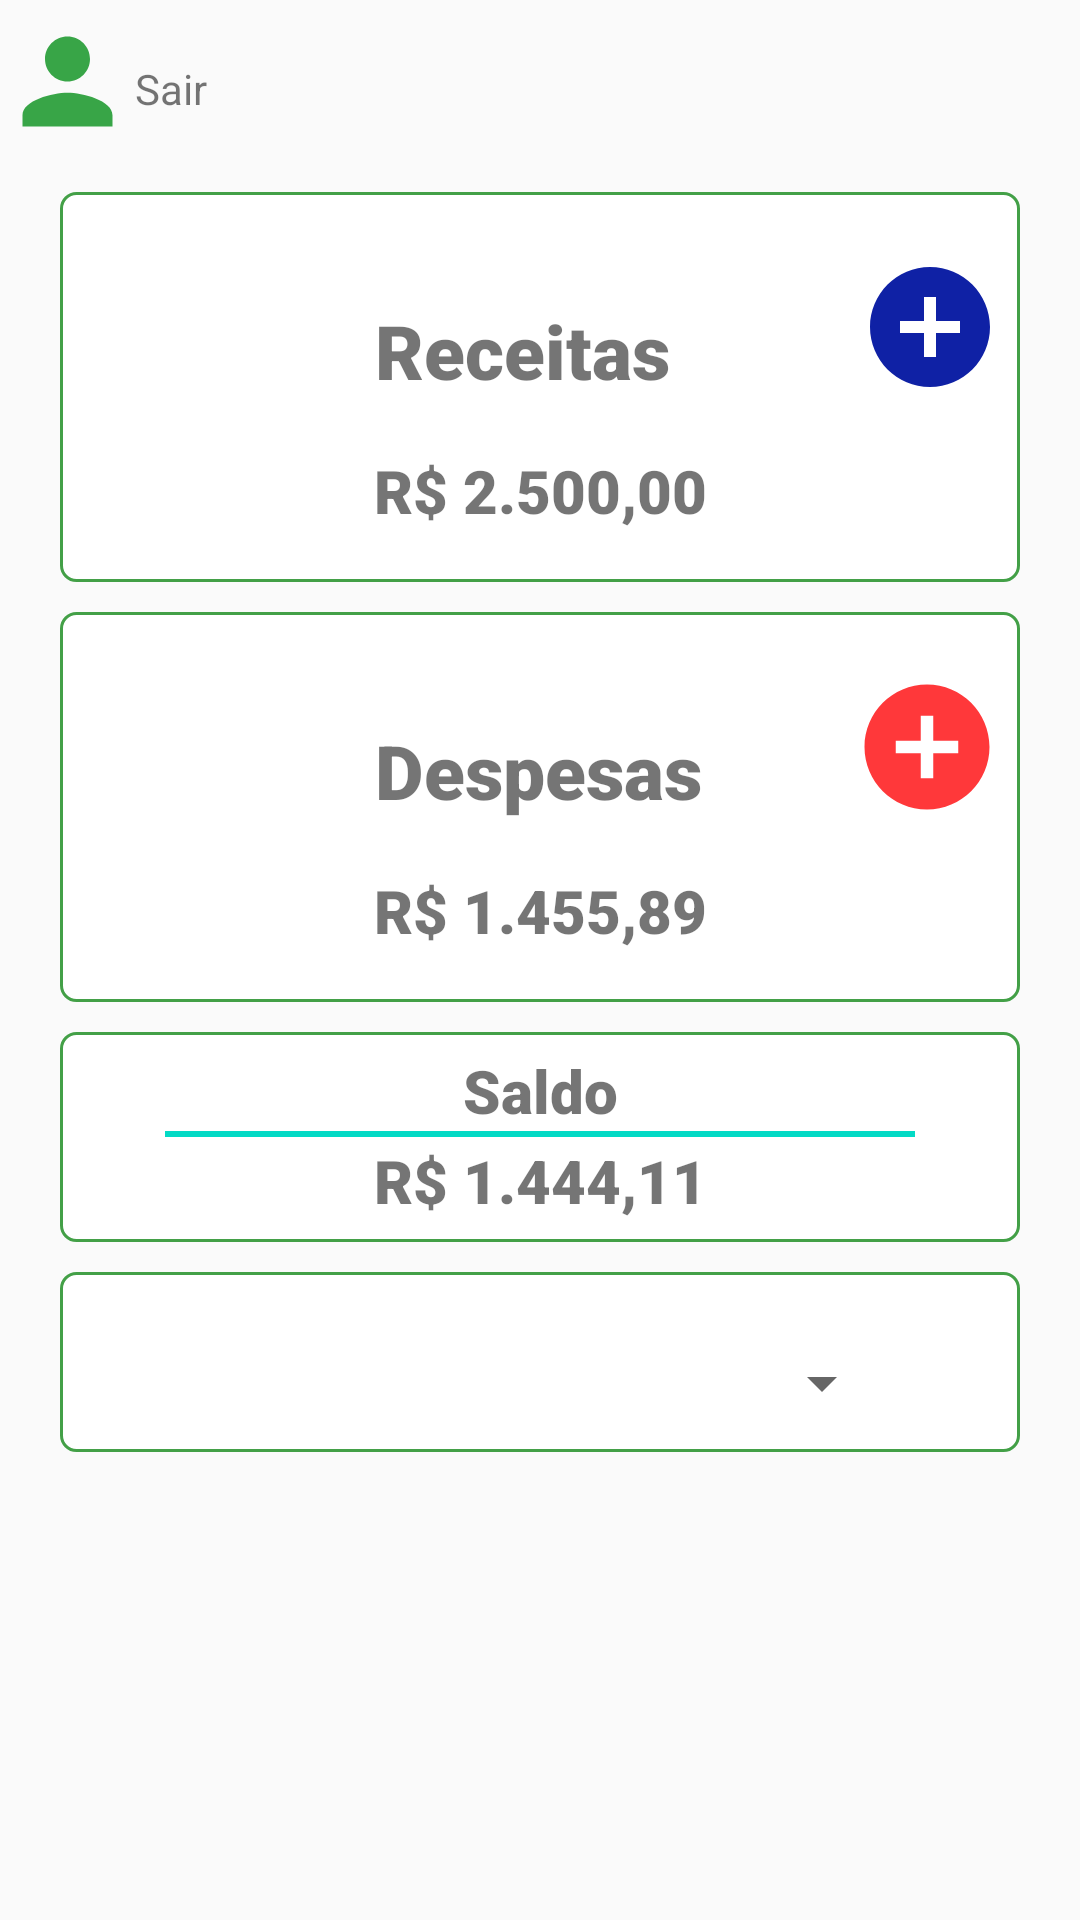

Named icons in this screenshot (1080 x 1920) and their bounding boxes, region(x1, y1, x2, y2):
adicionar despesa: region(864, 684, 990, 810)
adicionar receita: region(870, 267, 990, 387)
person: region(22, 36, 113, 127)
